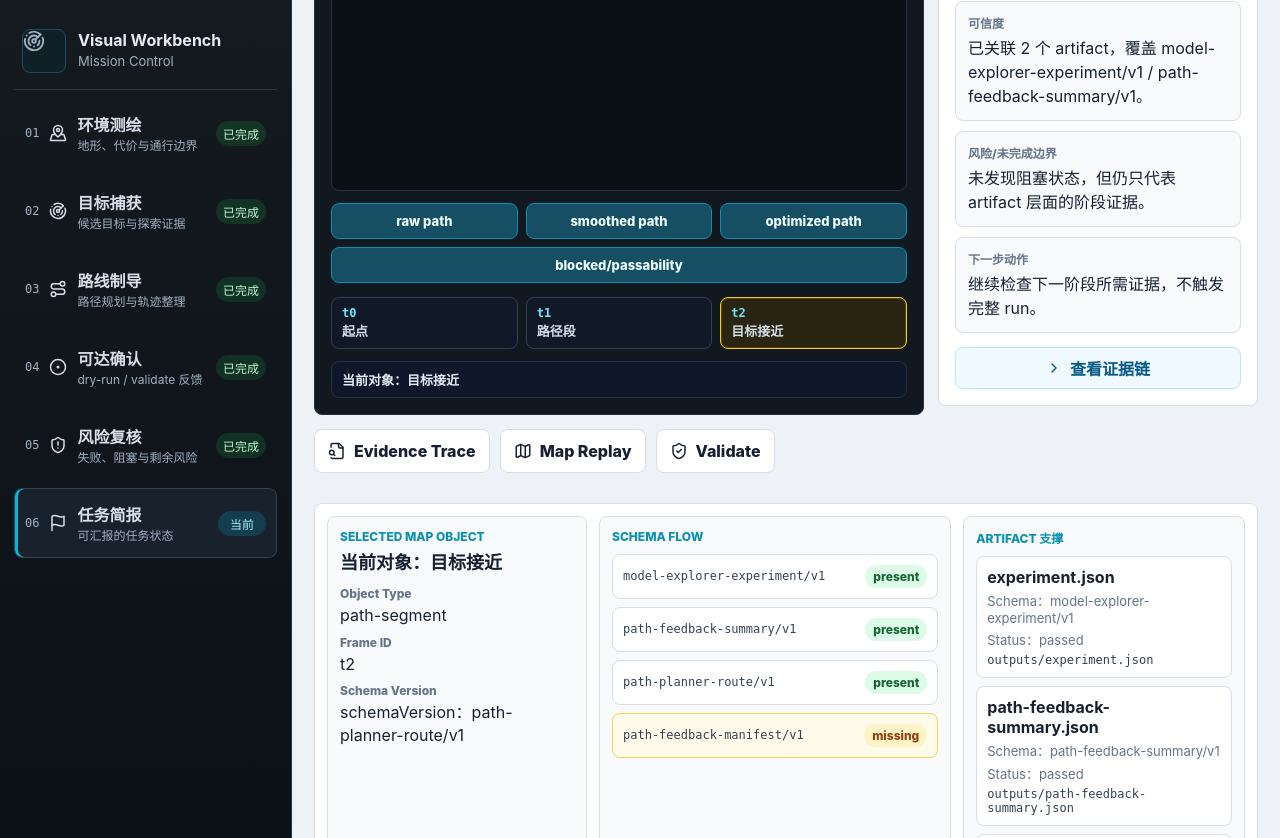
Test: App › toggles a stage-local tool panel closed when the active tool is clicked again
(page scrolled)
Click the button "Evidence Trace": (402, 451) [314,429,490,473]
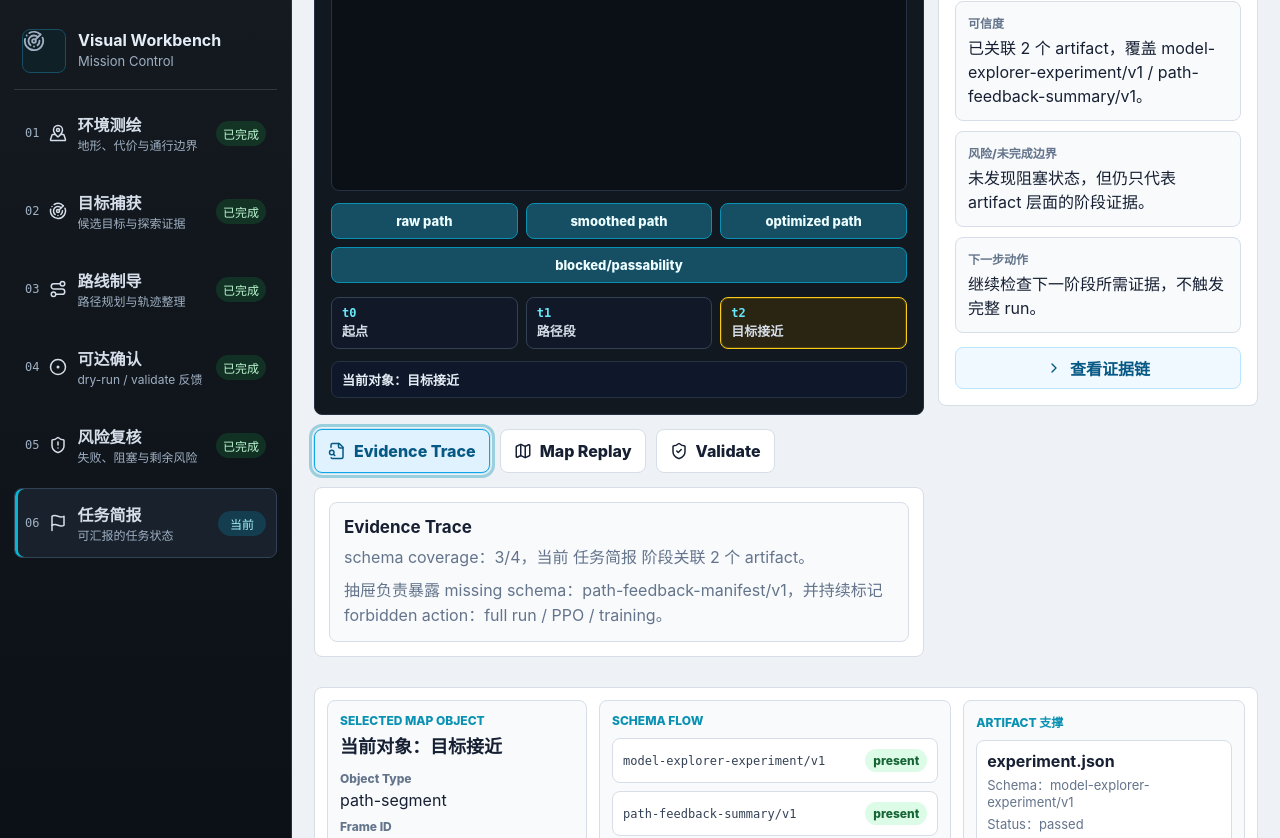
Expected: the button "Evidence Trace" is expanded
Expected: the heading "Evidence Trace" is shown, [344,517,472,537]
Click the button "Evidence Trace": (402, 451) [314,429,490,473]
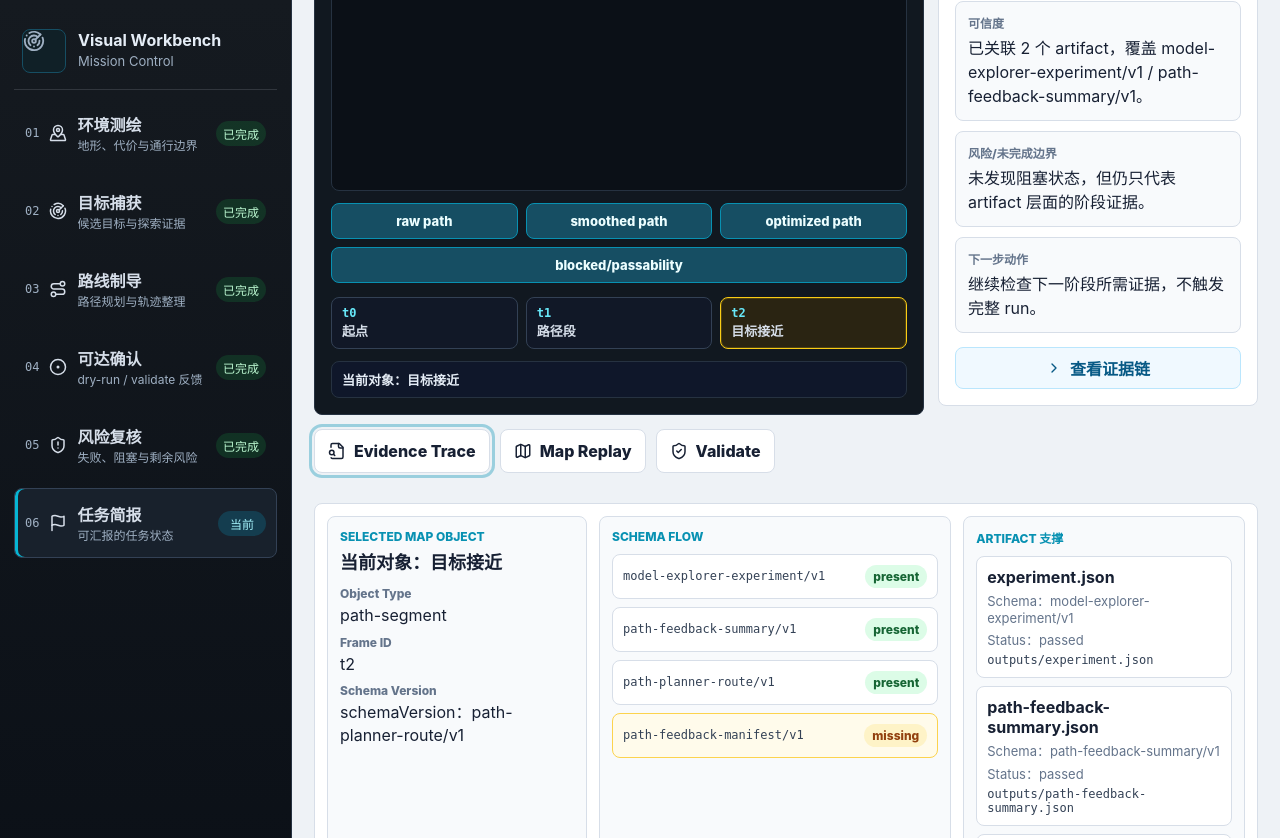
Expected: the button "Evidence Trace" is collapsed, [314,429,490,473]
